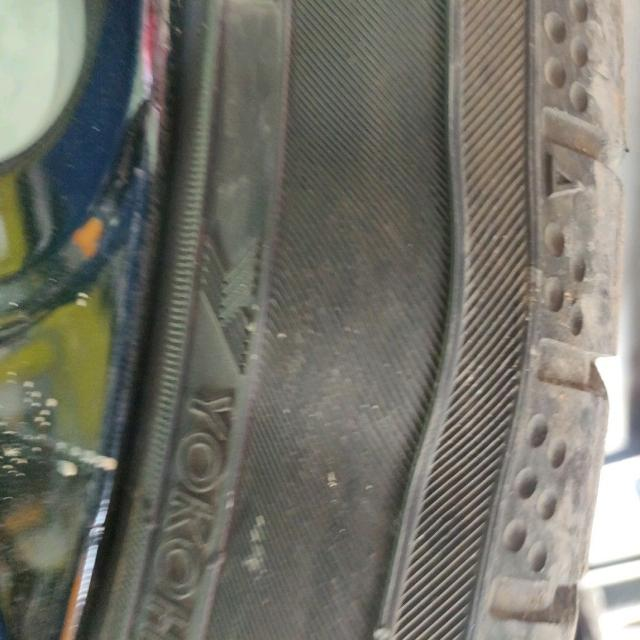Bulge: (210, 186, 482, 442)
